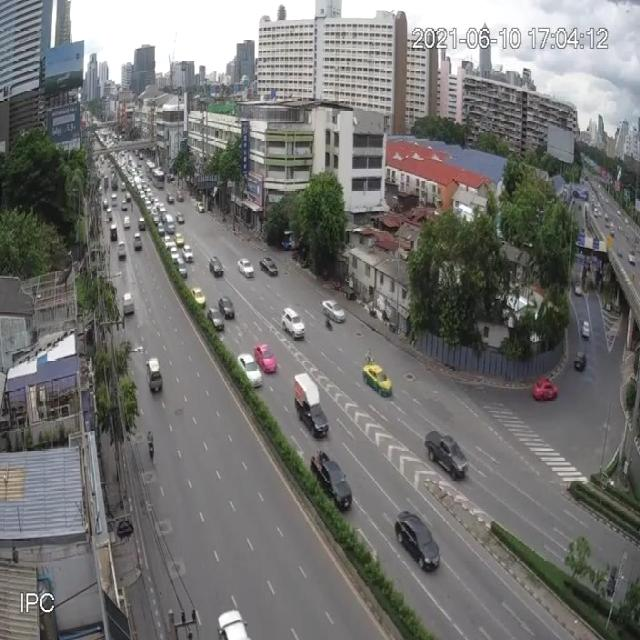Car: (396, 509, 442, 575), (310, 450, 351, 510), (425, 430, 469, 480), (363, 360, 393, 398), (217, 609, 251, 640), (238, 353, 262, 389), (282, 307, 306, 340), (254, 343, 276, 374), (533, 377, 558, 402), (322, 299, 346, 324), (146, 358, 163, 393), (207, 306, 225, 331), (218, 296, 235, 320), (259, 257, 279, 277), (606, 566, 618, 597), (117, 518, 133, 539), (209, 256, 224, 278), (191, 286, 206, 308), (238, 258, 254, 278), (174, 258, 188, 279), (123, 294, 135, 315), (574, 352, 586, 371), (182, 245, 193, 263), (133, 232, 142, 250), (170, 250, 180, 266), (174, 232, 184, 247), (582, 320, 590, 338), (281, 239, 294, 250), (118, 241, 126, 258), (110, 223, 117, 240), (138, 216, 146, 230), (122, 214, 130, 228), (574, 284, 582, 297), (196, 202, 206, 212), (628, 253, 636, 265), (176, 212, 184, 224), (176, 191, 184, 202), (102, 197, 109, 209), (121, 199, 128, 211), (106, 209, 112, 222), (167, 194, 174, 204), (593, 207, 600, 217), (167, 173, 174, 182), (604, 213, 609, 223), (618, 247, 623, 256), (610, 223, 614, 232)
Truck: (293, 372, 330, 439)
